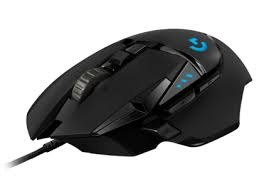mouse: (14, 14, 254, 160)
